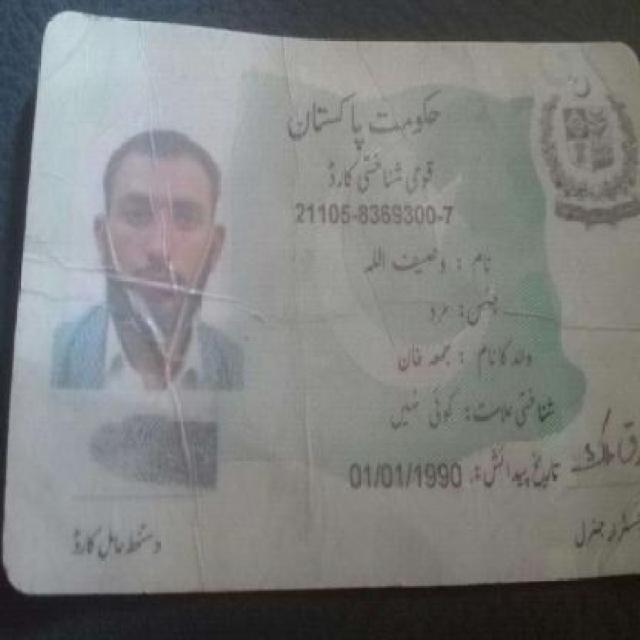Front: (17, 32, 635, 574)
